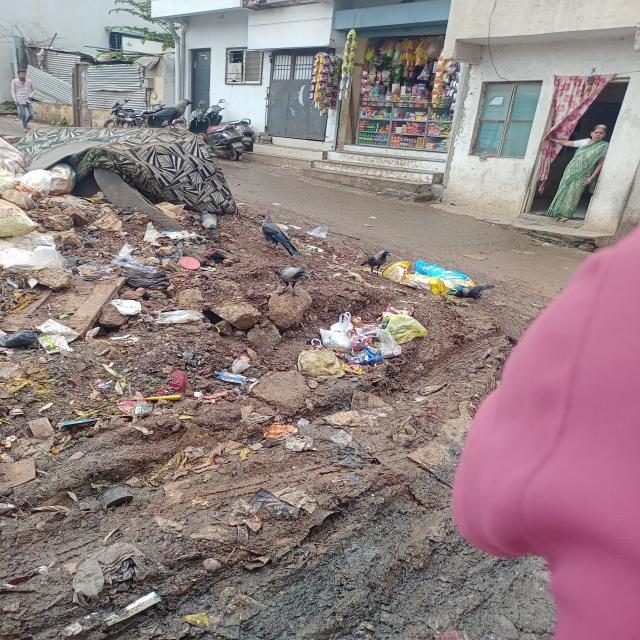garbage: (0, 121, 235, 402), (237, 217, 452, 412)
